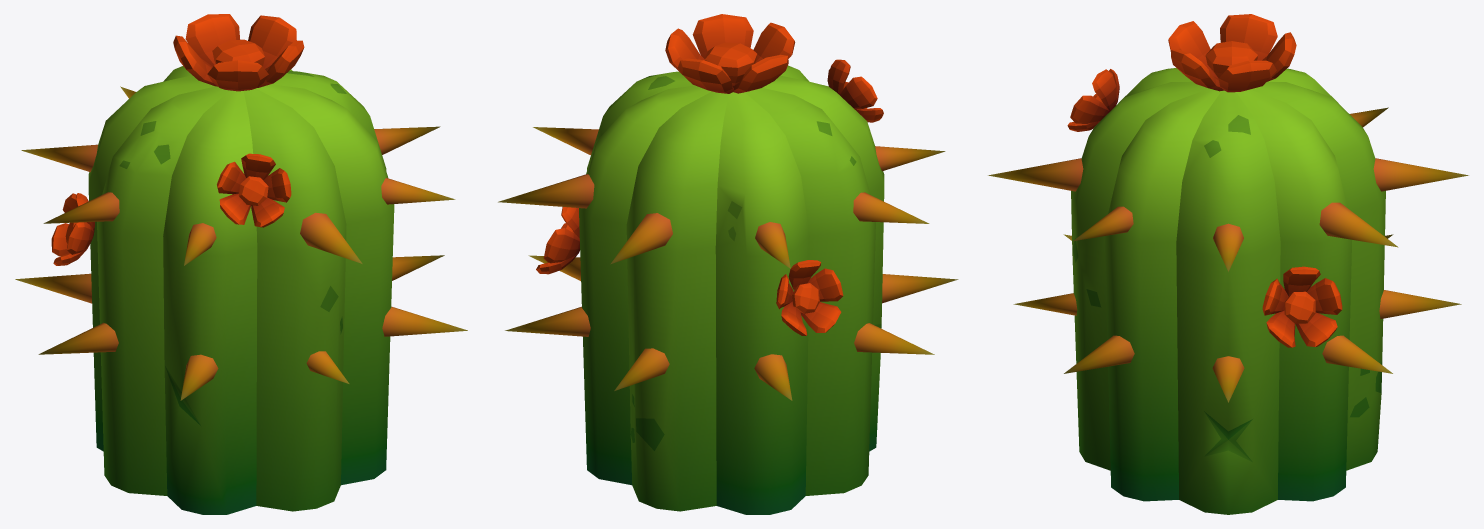
The model's file is cactus1.glb.
The picture shows the model from 3 angles, left to right: view 1: azimuth 30°, elevation 25°; view 2: azimuth 150°, elevation 25°; view 3: azimuth 270°, elevation 25°; orthographic projection.
Visible parts, largest first — view 1: cactus1; view 2: cactus1; view 3: cactus1.
Boxes of the visible parts, bbox=[...] form: cactus1: bbox=[15, 14, 467, 514]; cactus1: bbox=[498, 14, 958, 514]; cactus1: bbox=[988, 14, 1468, 514].
Bounding box in the file's own units: 1.86 × 1.82 × 1.92.
Materials: 1 (1 with a texture image).
